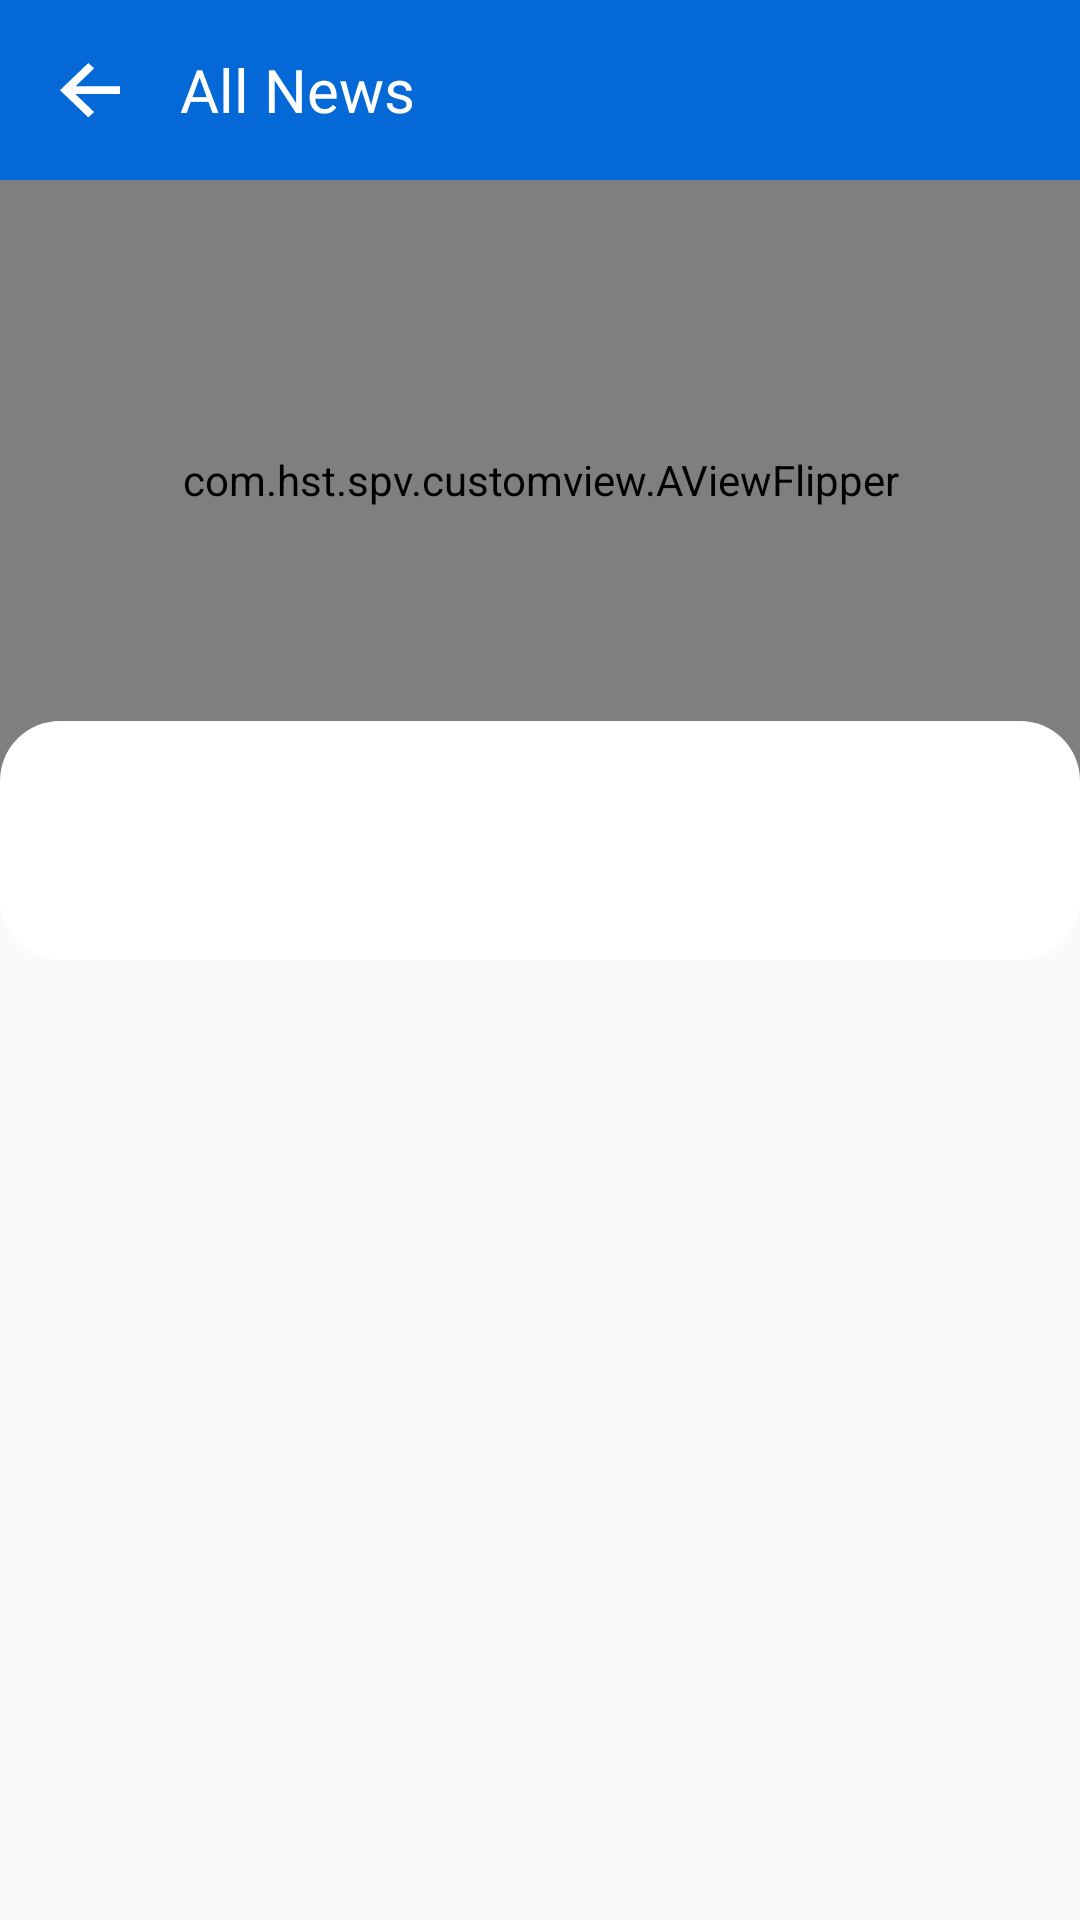

Locate icon controls on the screen. Image size 1080w x 1920h, boxes as (x1, y1, x2, y2).
left arrow: (60, 63, 120, 117)
